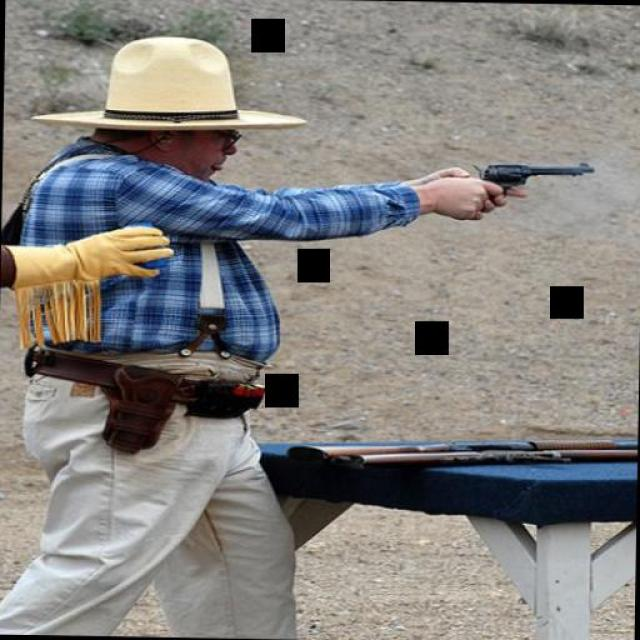gun: (473, 156, 592, 212)
